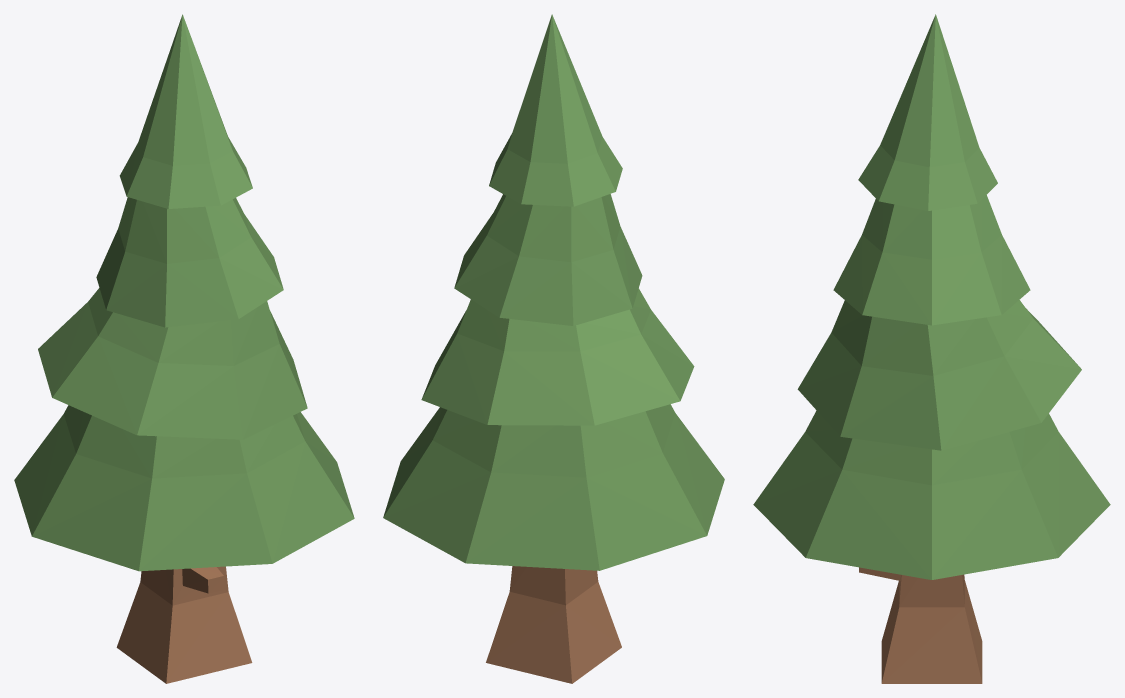
Rendered from forest-pine-1.glb.
3 views of the same model, side by side, from view 1: azimuth 30°, elevation 25°; view 2: azimuth 150°, elevation 25°; view 3: azimuth 270°, elevation 25° (orthographic).
Parts seen in each view (by area): view 1: forest-pine-1; view 2: forest-pine-1; view 3: forest-pine-1.
Part boxes in pixels (left/top/right/bottom): forest-pine-1: left=14, top=14, right=354, bottom=683; forest-pine-1: left=383, top=14, right=724, bottom=683; forest-pine-1: left=753, top=14, right=1110, bottom=683.
Size of the model in its own units: 0.9412 by 1.89 by 0.9412.
